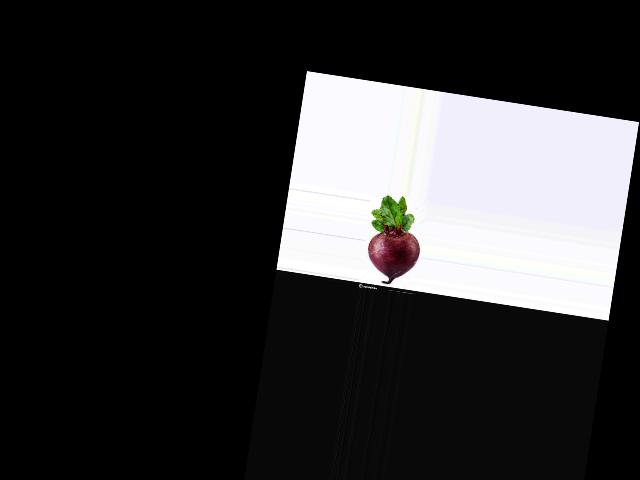beet: (361, 192, 428, 287)
